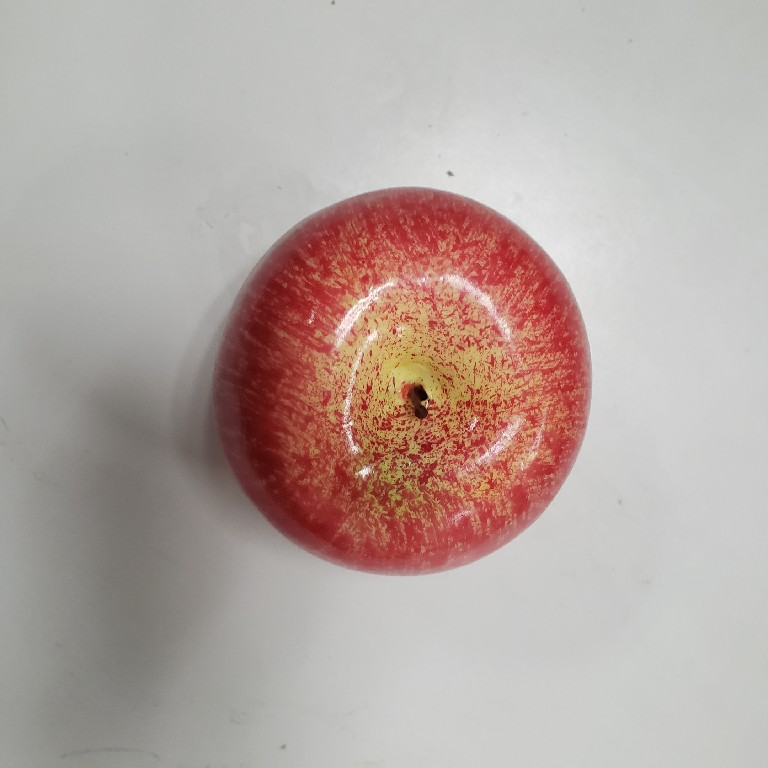fruit_apple: (204, 178, 599, 584)
